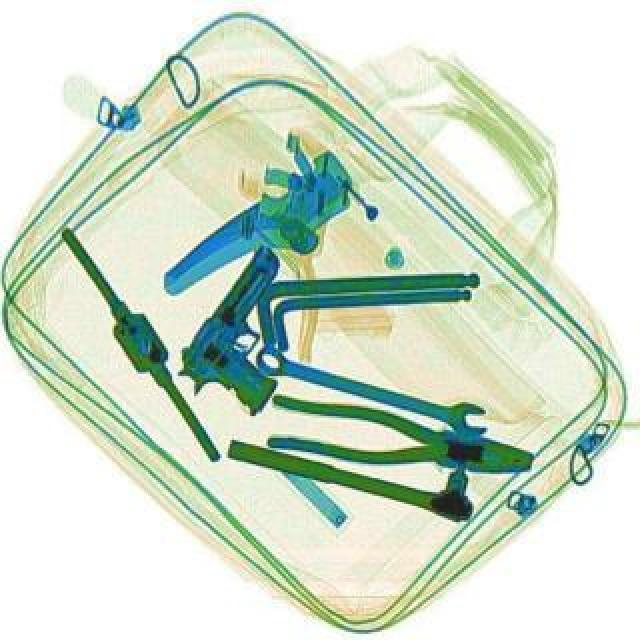gun: (166, 238, 348, 426)
scissors: (252, 338, 496, 440)
wrench: (266, 390, 538, 488)
